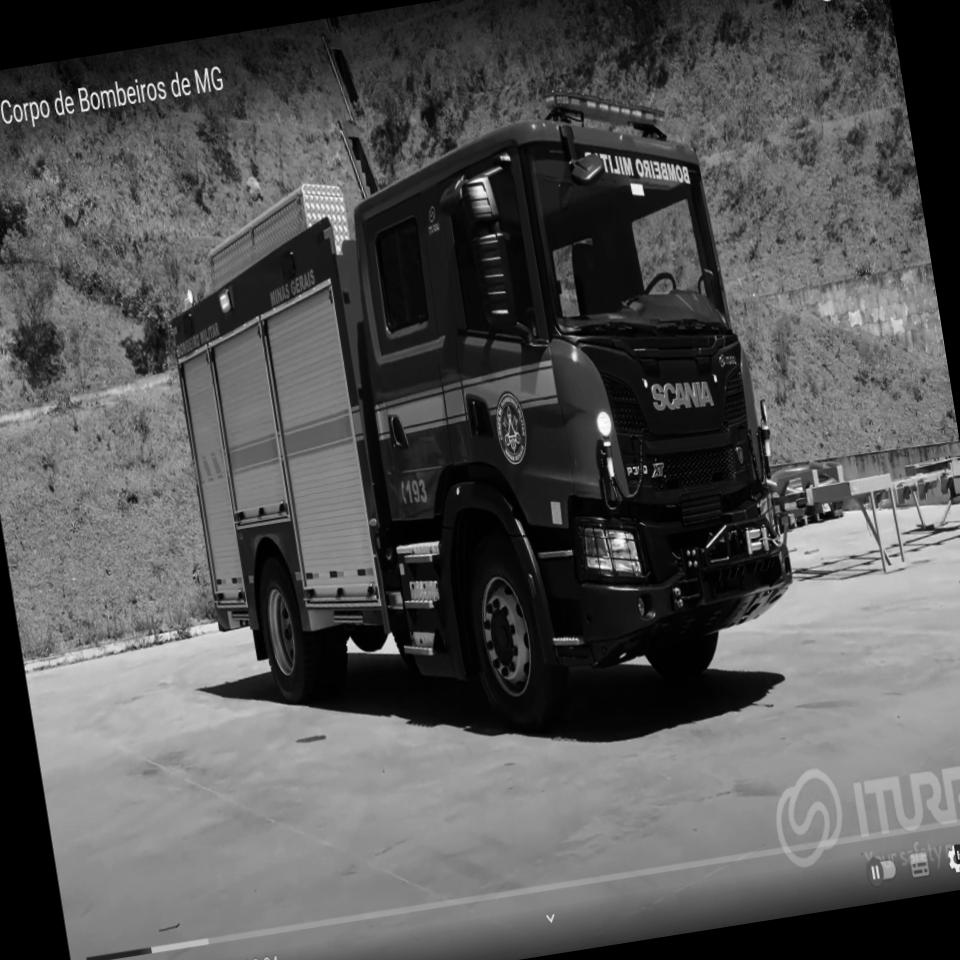viatura: (136, 66, 814, 785)
